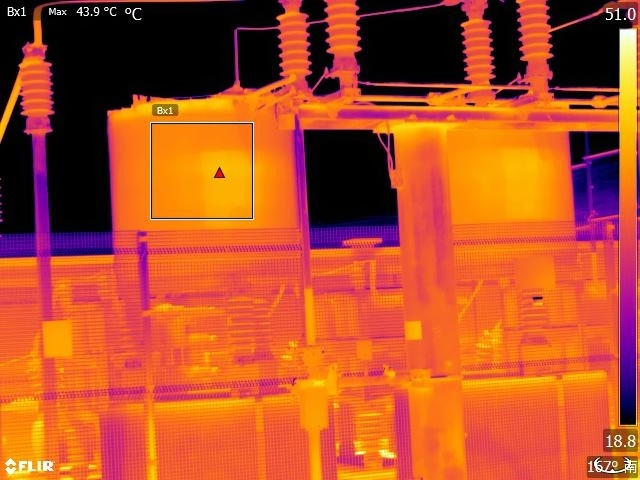post insulator: (264, 1, 319, 82), (20, 50, 59, 128), (311, 1, 358, 60), (458, 10, 496, 81), (517, 1, 559, 65)
